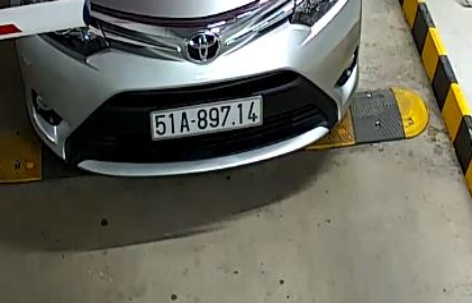plate: (144, 95, 268, 140)
